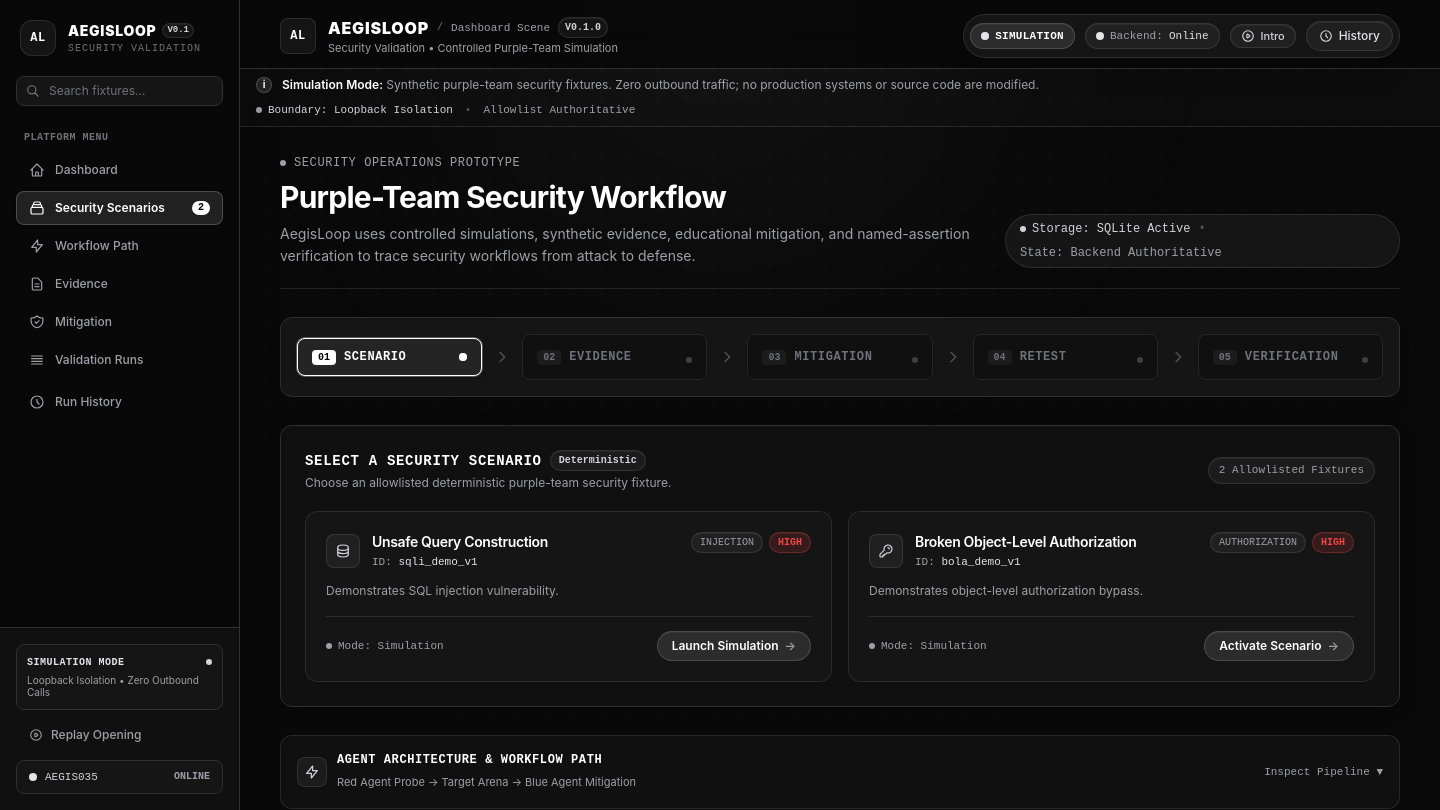
Test: AegisLoop App End-to-End Workflow › opens and closes run history drawer with persisted runs
This screenshot has width=1440, height=810.
Expected: the text "Unsafe Query Construction" is shown, [372, 532, 548, 552]
# Create a run so it is added to history
Click the button with aria-label "run simulation" at (734, 646), box [657, 631, 811, 661]
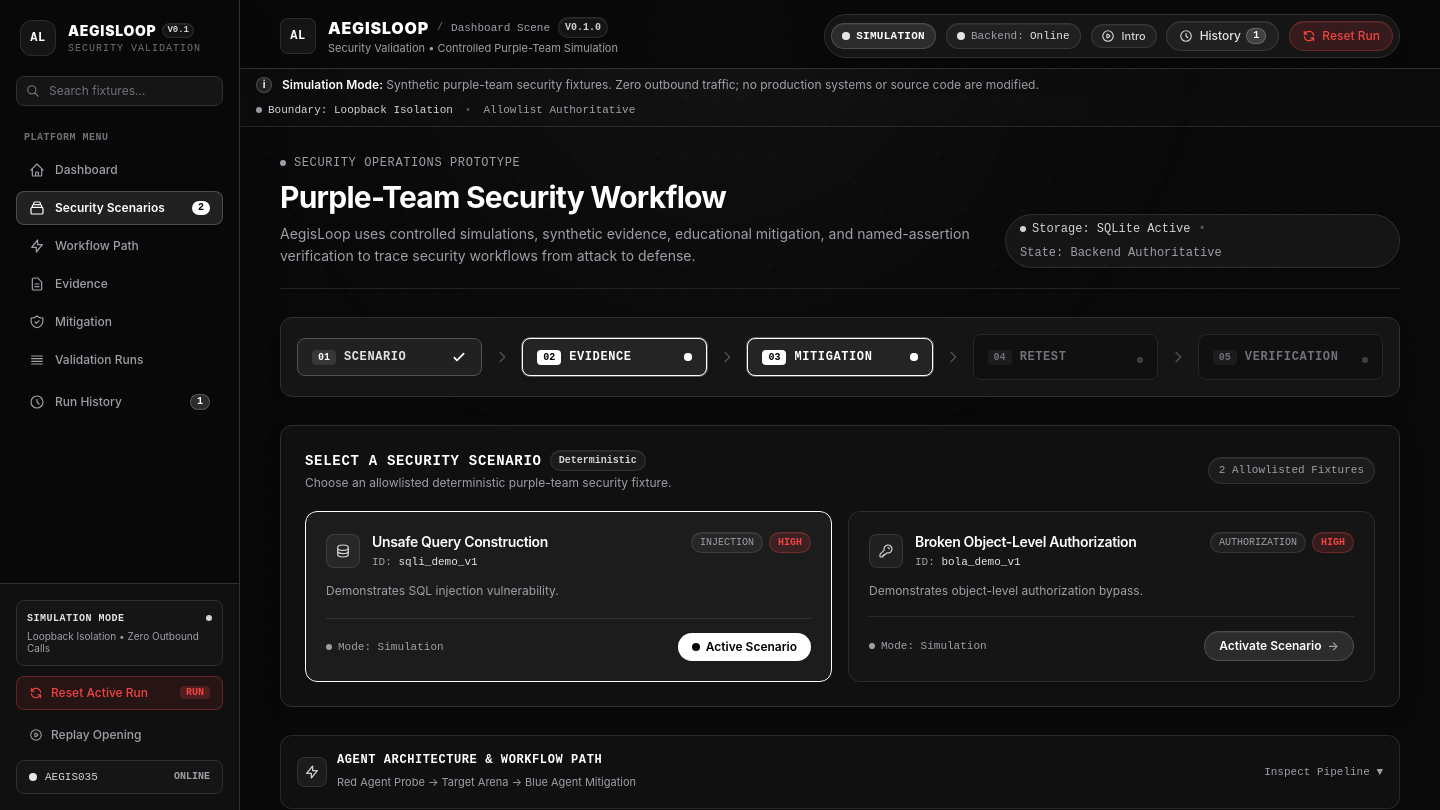
Click the button with aria-label "view run history" at (1223, 36), box [1166, 21, 1279, 51]
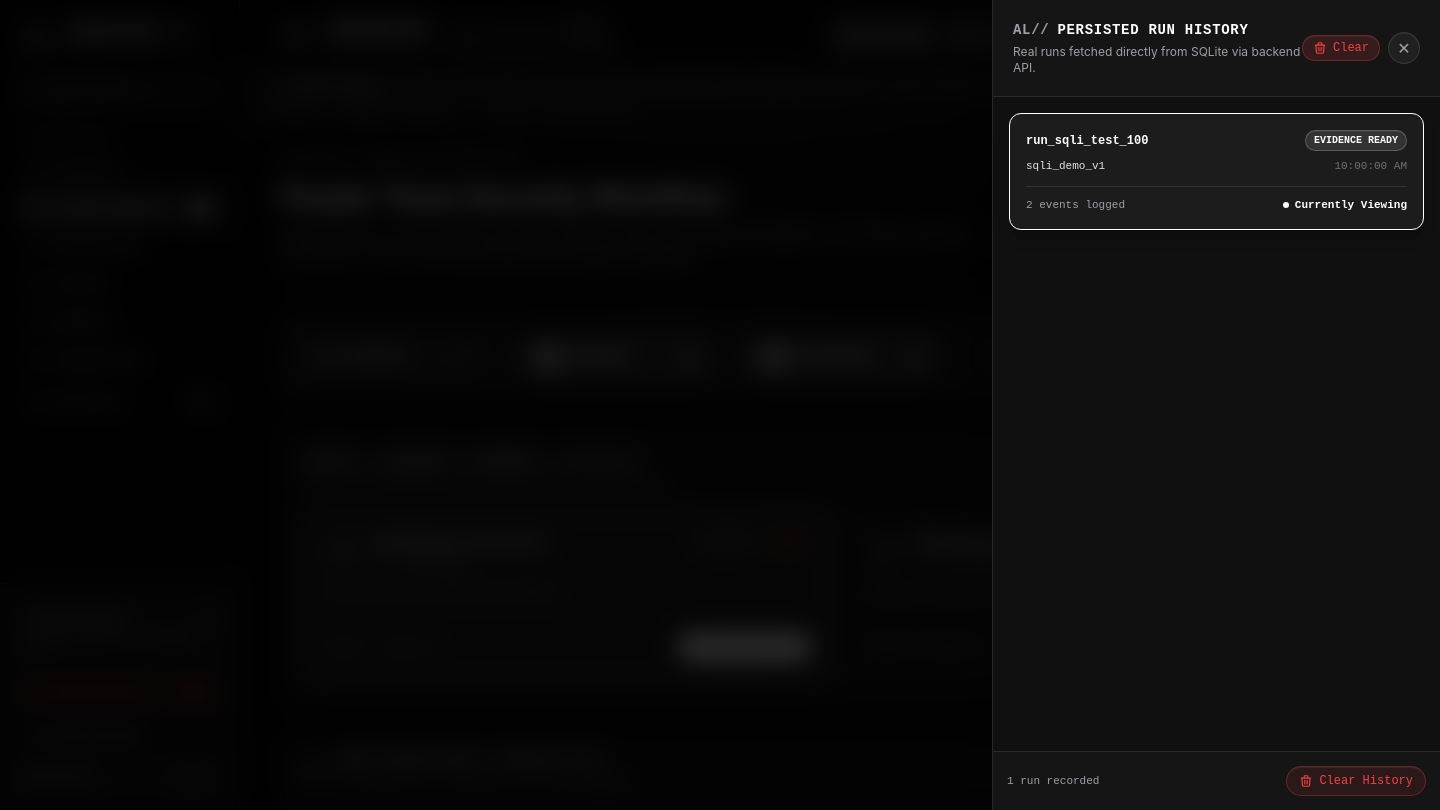
Expected: the dialog "Persisted Run History" is shown
Expected: the text "Persisted Run History" is shown, [1057, 20, 1248, 40]
Expected: the text "2 events logged" is shown, [1026, 197, 1125, 213]
Click the button named "close run history" at (1404, 48), box [1388, 32, 1420, 64]
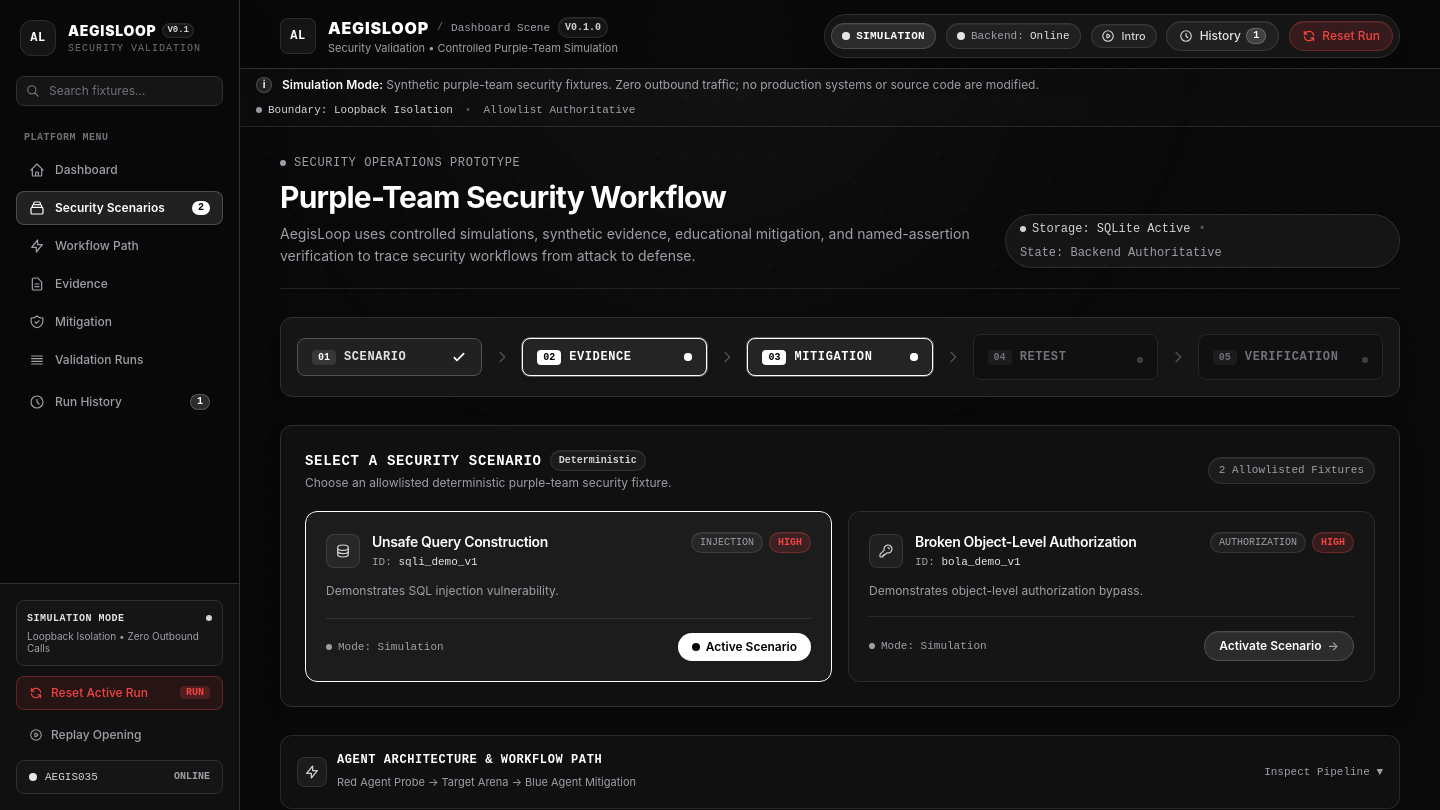
Expected: the text "Persisted Run History" is gone
